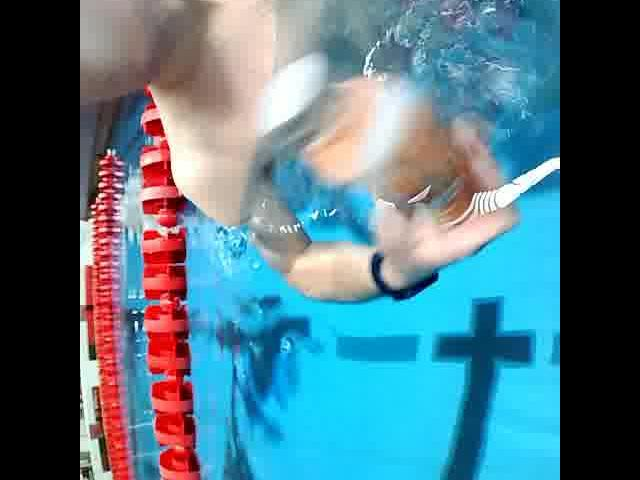Bottle: (259, 50, 482, 232)
